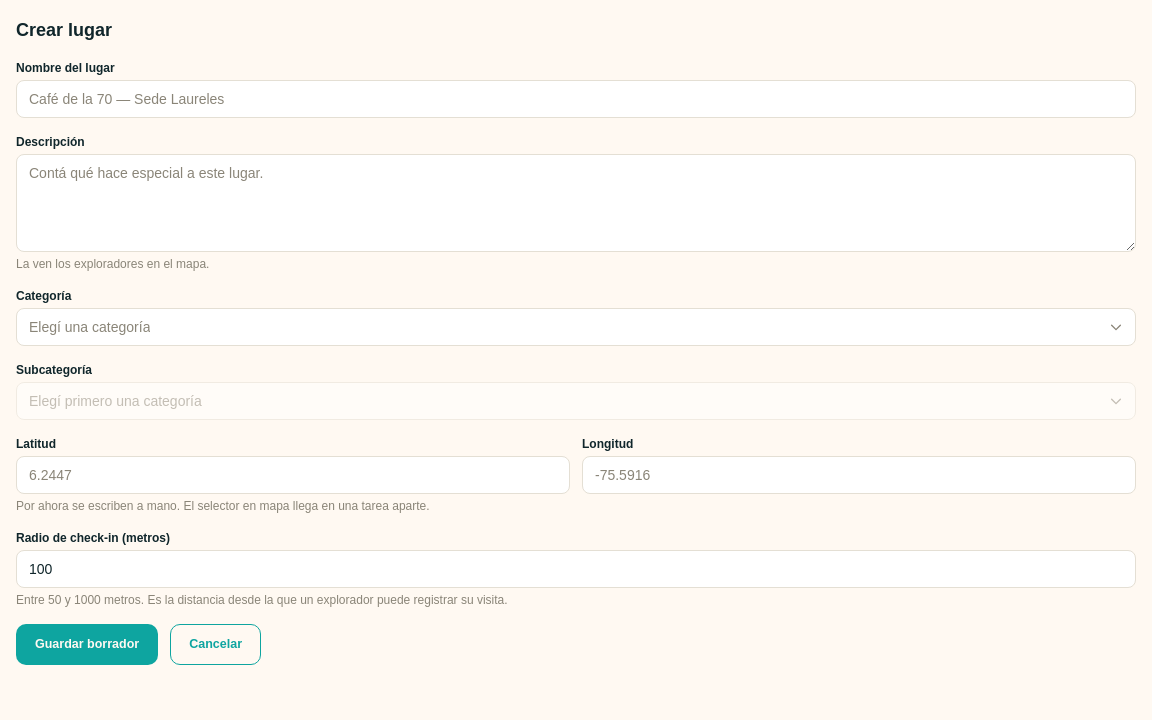
Test: PlaceForm › resetea la subcategoría al cambiar de categoría
Click the dropdown labelled "categoría": {"x": 90, "y": 327} [16,308,1136,346]
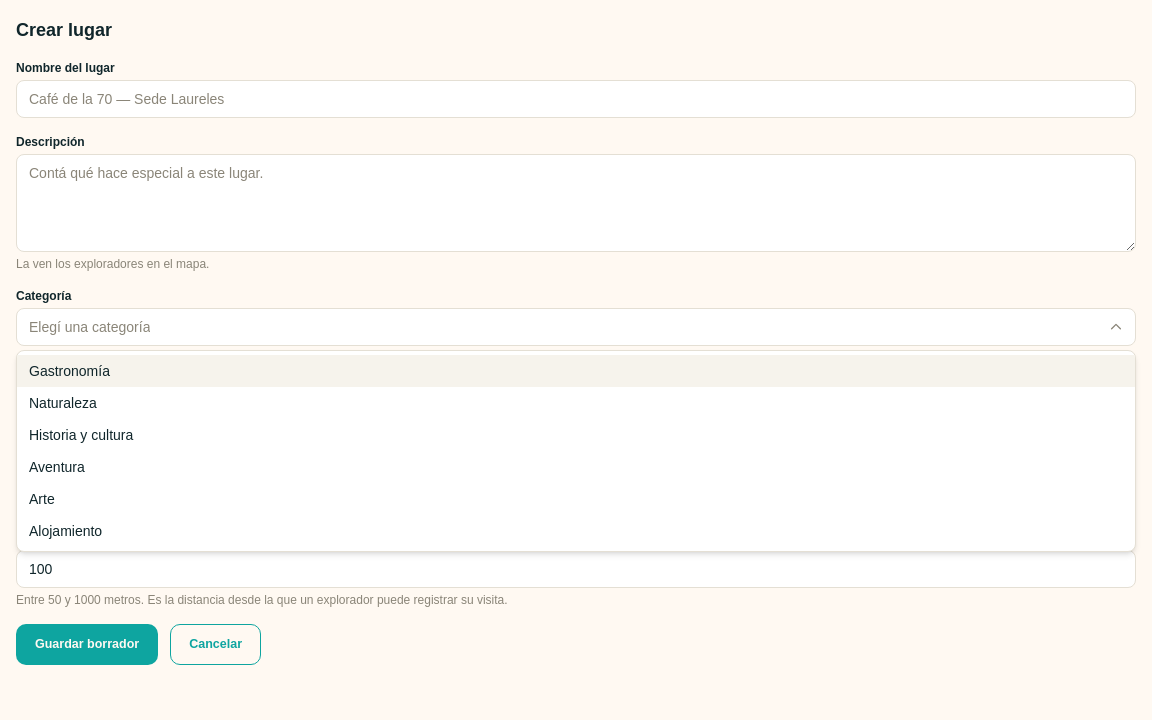
Click the option "Gastronomía": {"x": 69, "y": 371} [17,355,1135,387]
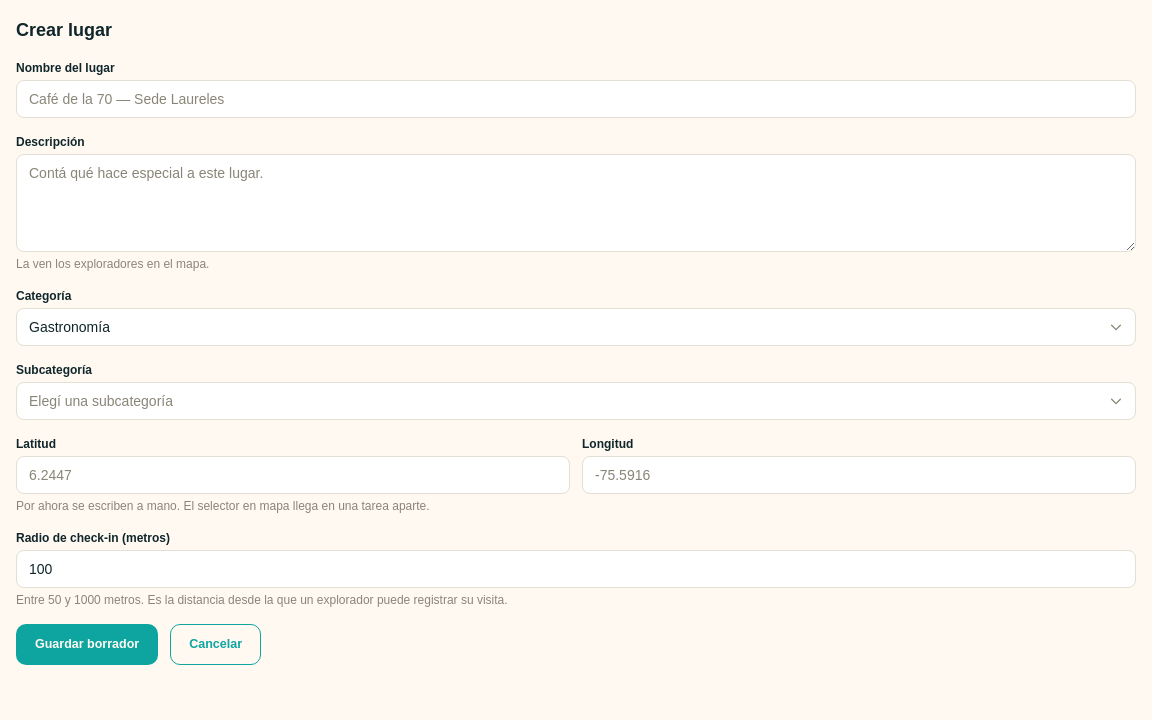
Click the dropdown labelled "subcategoría": {"x": 101, "y": 401} [16,382,1136,420]
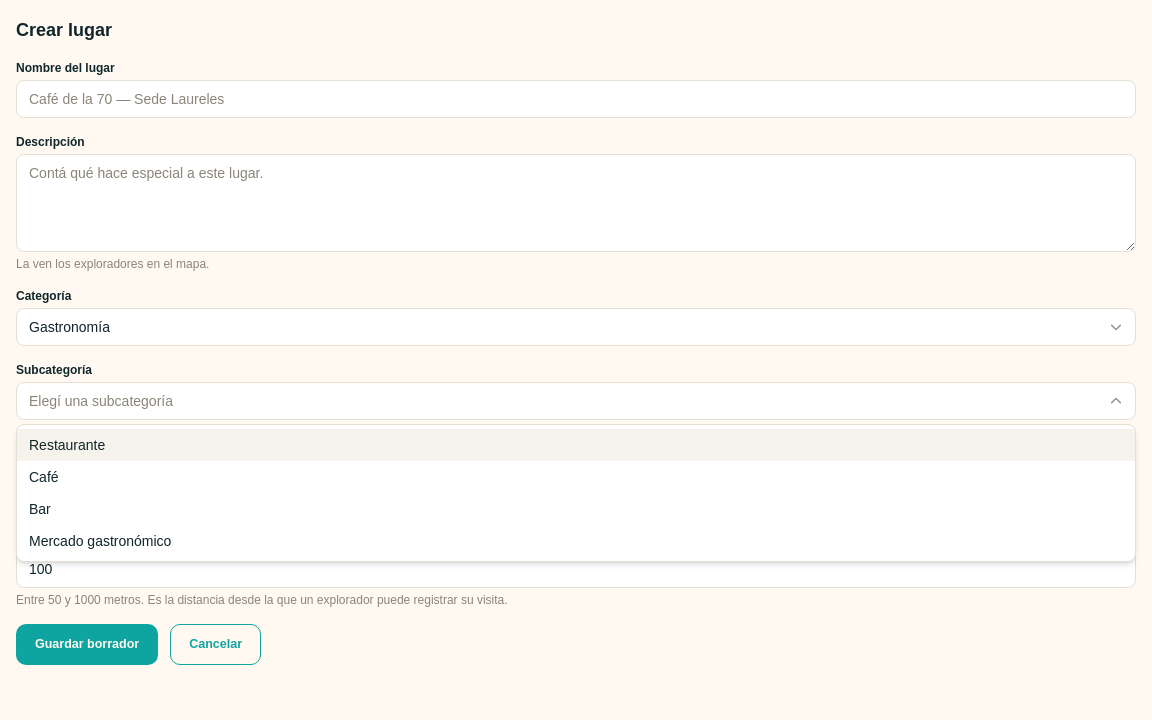
Click the option "Café": {"x": 44, "y": 477} [29,469,59,485]
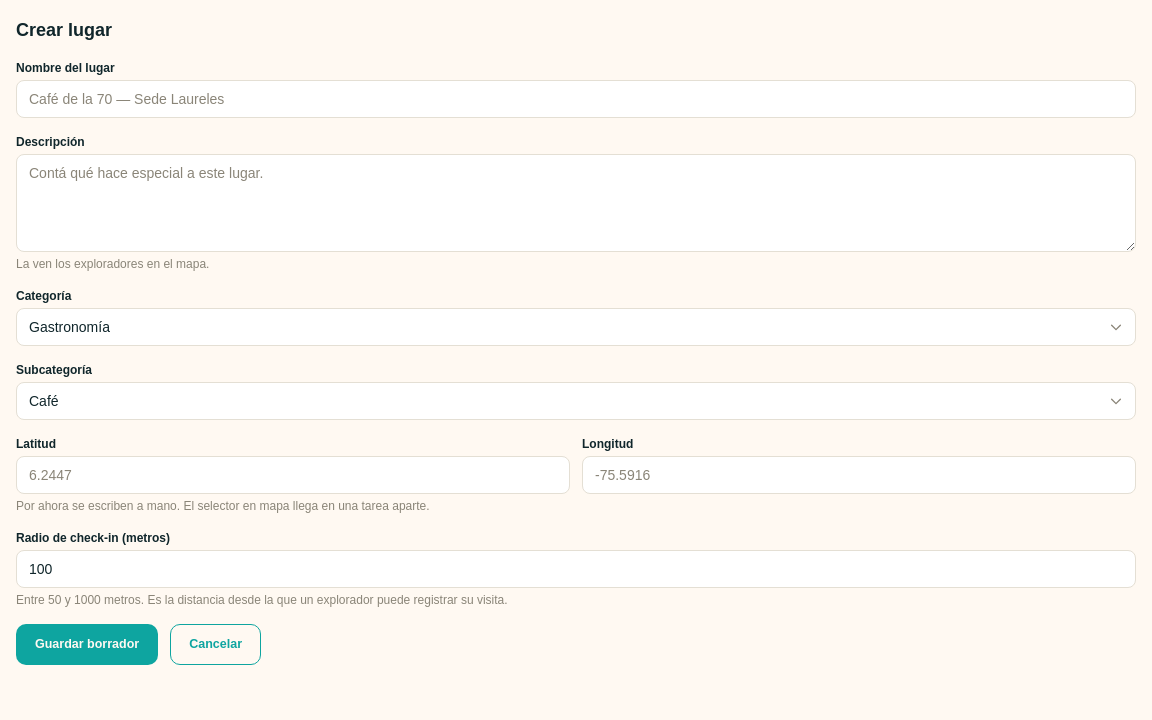
Expected: the dropdown named "Subcategoría" reads "Café", [16,382,1136,420]
Click the dropdown named "Categoría": {"x": 69, "y": 327} [16,308,1136,346]
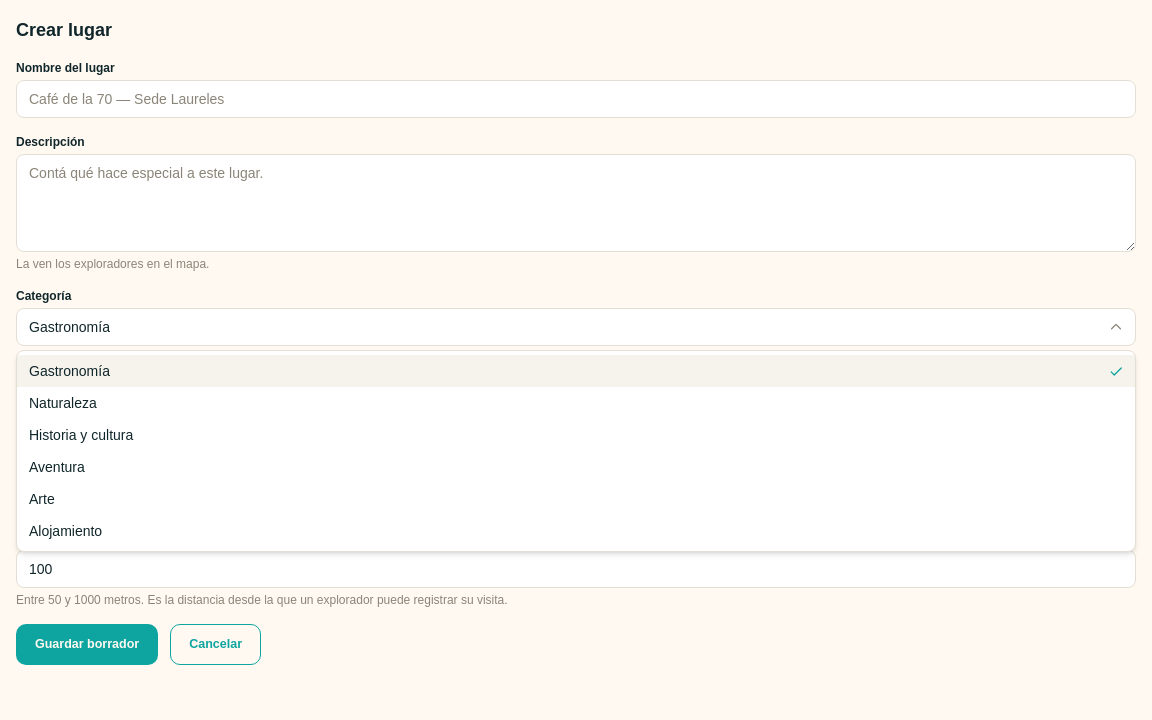
Click the option "Alojamiento": {"x": 66, "y": 531} [29,523,102,539]
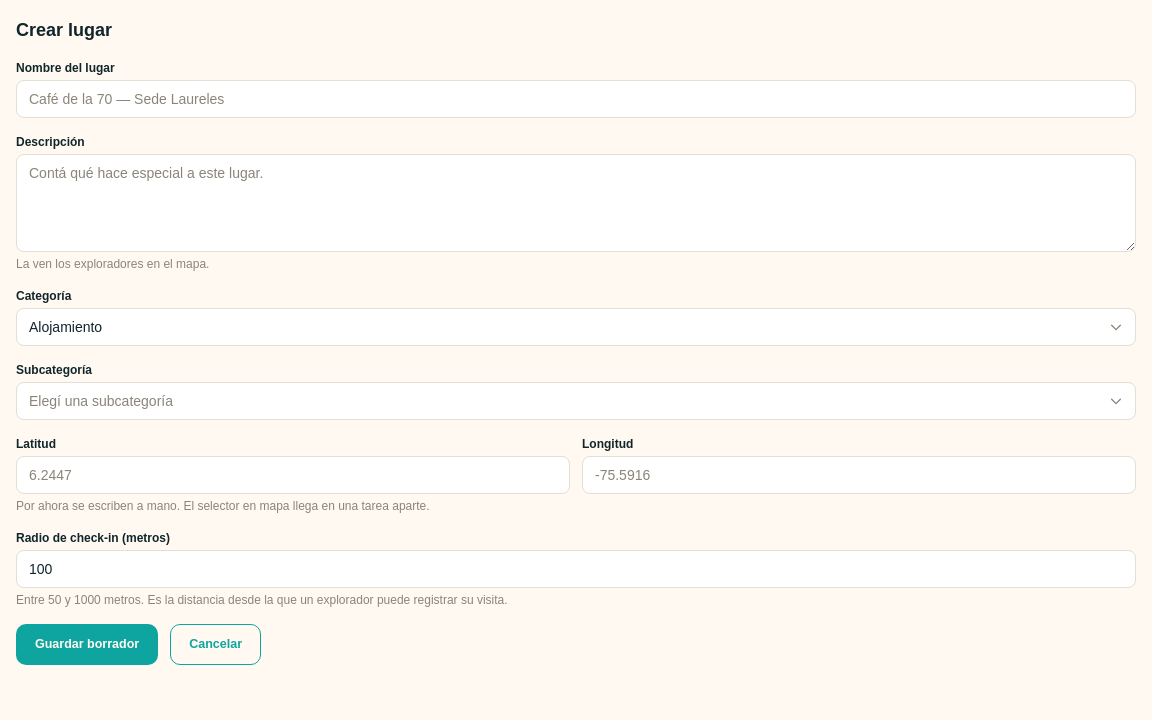
Expected: the dropdown labelled "subcategoría" reads "Elegí una subcategoría", [16,382,1136,420]
